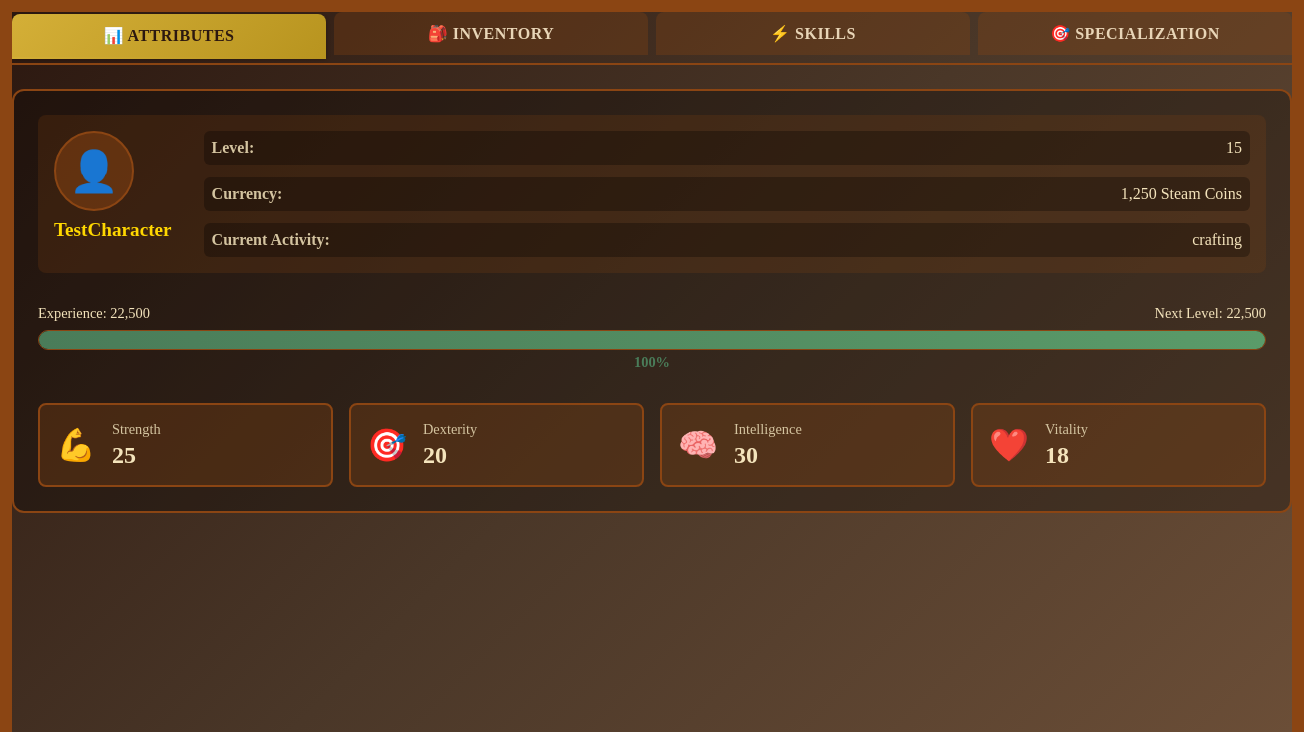
Test: CharacterPanel › Inventory Tab › displays inventory with capacity information
Click the button "🎒 Inventory" at (491, 34), box left=334, top=12, right=648, bottom=55
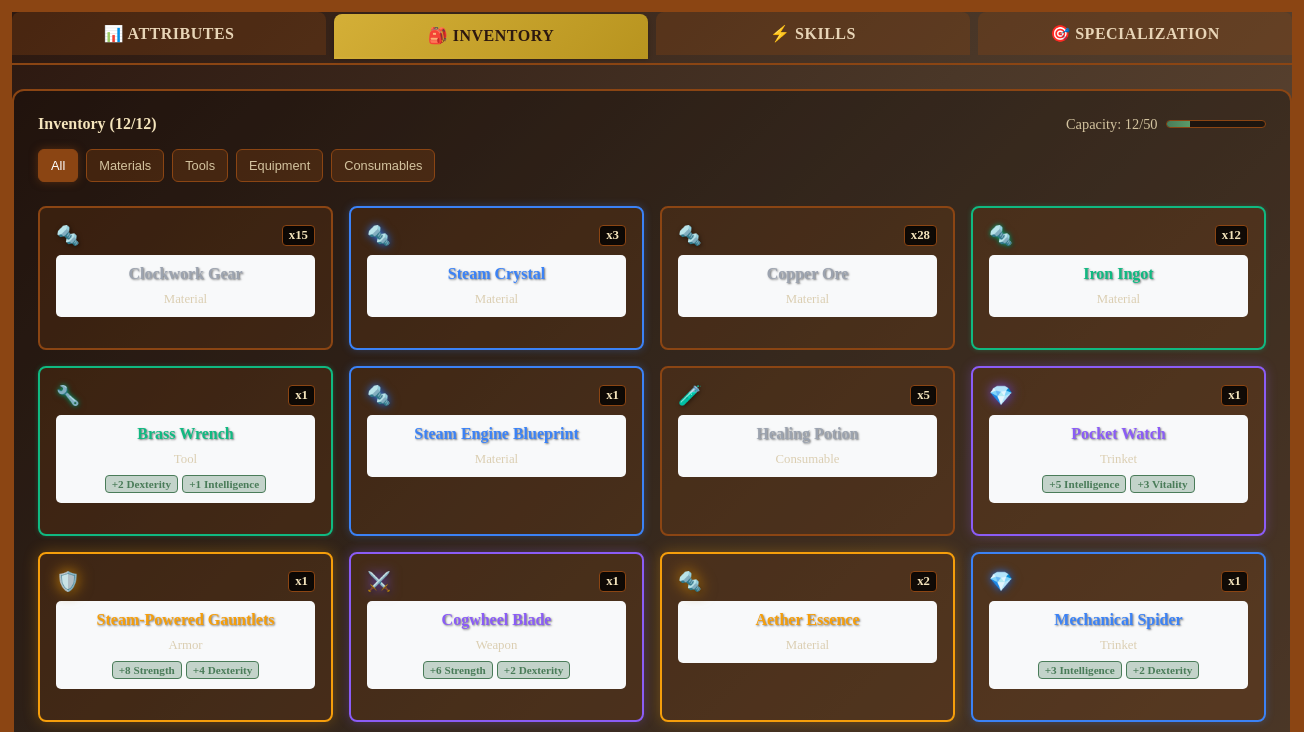
Now the heading "Inventory (12/12)" is shown, box left=38, top=115, right=157, bottom=133
Now the text "Capacity: 12/50" is shown, box left=1066, top=116, right=1158, bottom=132
